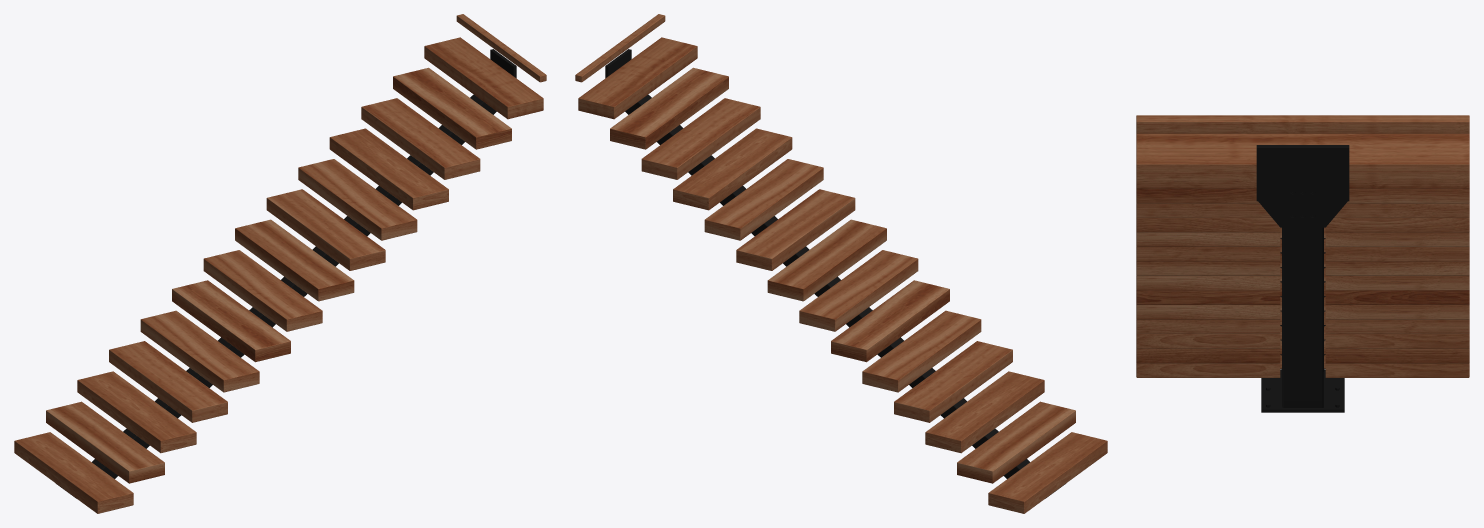
The model's file is Straight_Stair_All-Others.gltf.
3 renders of one model, left to right at view 1: azimuth 30°, elevation 25°; view 2: azimuth 150°, elevation 25°; view 3: azimuth 270°, elevation 25°, orthographic. The views are drawn at different scales.
Visible parts, largest first — view 1: Tread Block_086, Tread Block_080, Tread Block_008, Tread Block_011, Tread Block_081, Tread Block_009, Tread Block_084, Tread Block_078, Tread Block_082, Tread Block_083, Tread Block_012, Tread Block_010 (+4 smaller); view 2: Tread Block_009, Tread Block_086, Tread Block_080, Tread Block_008, Tread Block_081, Tread Block_082, Tread Block_011, Tread Block_084, Tread Block_078, Tread Block_083, Tread Block_012, Tread Block_085 (+4 smaller); view 3: Tread Block_086, Stair Stringer_Upper, Header Plate, Floor Nosing, Tread Block_010, Tread Block_013, Tread Block_008, Tread Block_081, Tread Block_012, Tread Block_011, Tread Block_080, Tread Block_009 (+7 smaller).
Part boxes in pixels (x1,y1,x2,y2): Tread Block_086: (424, 37, 543, 119); Tread Block_080: (235, 219, 354, 301); Tread Block_008: (140, 310, 259, 392); Tread Block_011: (14, 432, 133, 513); Tread Block_081: (266, 189, 385, 270); Tread Block_009: (77, 371, 196, 453); Tread Block_084: (361, 98, 480, 179); Tread Block_078: (203, 250, 322, 331); Tread Block_082: (298, 159, 417, 240); Tread Block_083: (329, 128, 448, 210); Tread Block_012: (172, 280, 290, 362); Tread Block_010: (46, 401, 164, 483); Tread Block_009: (925, 371, 1044, 453); Tread Block_086: (578, 37, 697, 119); Tread Block_080: (767, 219, 886, 301); Tread Block_008: (862, 310, 981, 392); Tread Block_081: (736, 189, 855, 270); Tread Block_082: (704, 159, 823, 240); Tread Block_011: (988, 432, 1107, 513); Tread Block_084: (641, 98, 760, 179); Tread Block_078: (799, 250, 918, 331); Tread Block_083: (673, 128, 792, 210); Tread Block_012: (831, 280, 949, 362); Tread Block_085: (610, 67, 728, 149); Tread Block_086: (1136, 133, 1469, 188); Stair Stringer_Upper: (1282, 191, 1323, 407); Header Plate: (1258, 149, 1347, 227); Floor Nosing: (1136, 115, 1469, 133); Tread Block_010: (1136, 340, 1469, 363); Tread Block_013: (1136, 311, 1469, 334); Tread Block_008: (1136, 296, 1469, 319); Tread Block_081: (1136, 238, 1469, 261); Tread Block_012: (1136, 282, 1469, 304); Tread Block_011: (1136, 355, 1469, 377); Tread Block_080: (1136, 253, 1469, 275); Tread Block_009: (1136, 326, 1469, 348).
Bounding box in the file's own units: 3.79 × 2.74 × 1.22.
